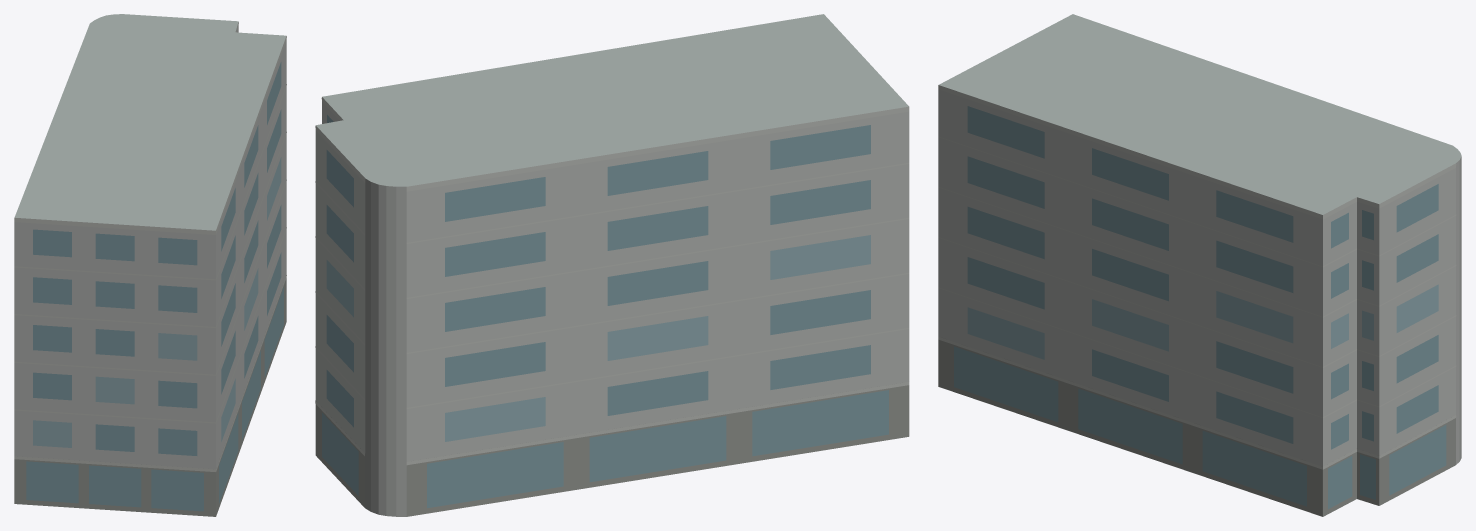
File: survey-upis-32848663.glb
3 renders of one model, left to right at view 1: azimuth 30°, elevation 25°; view 2: azimuth 150°, elevation 25°; view 3: azimuth 270°, elevation 25°, orthographic. The views are drawn at different scales.
Visible parts, largest first — view 1: survey-upis-32848663.tmp; view 2: survey-upis-32848663.tmp; view 3: survey-upis-32848663.tmp.
Boxes of the visible parts, x1,y1,x2,y2 form: survey-upis-32848663.tmp: (14,14,286,516); survey-upis-32848663.tmp: (315,14,909,516); survey-upis-32848663.tmp: (938,14,1461,516).
Bounding box in the file's own units: 22.88 × 16 × 25.15.
